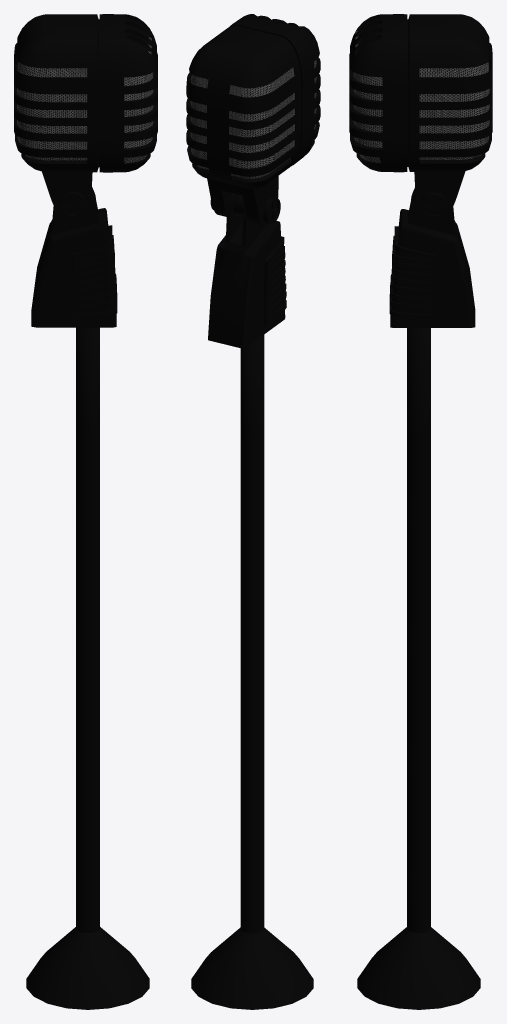
Rendered from old_microphone.glb.
The picture shows the model from 3 angles, left to right: view 1: azimuth 90°, elevation 25°; view 2: azimuth 150°, elevation 25°; view 3: azimuth 270°, elevation 25°; orthographic projection.
Parts seen in each view (by area): view 1: ChamferBox001; view 2: ChamferBox001; view 3: ChamferBox001.
Part boxes in pixels (x1=…): ChamferBox001: x1=14, y1=14, x2=157, y2=1009; ChamferBox001: x1=186, y1=14, x2=320, y2=1009; ChamferBox001: x1=349, y1=14, x2=492, y2=1009.
Size of the model in its own units: 16.41 by 138 by 18.82.
Materials: 3 (1 with a texture image).
